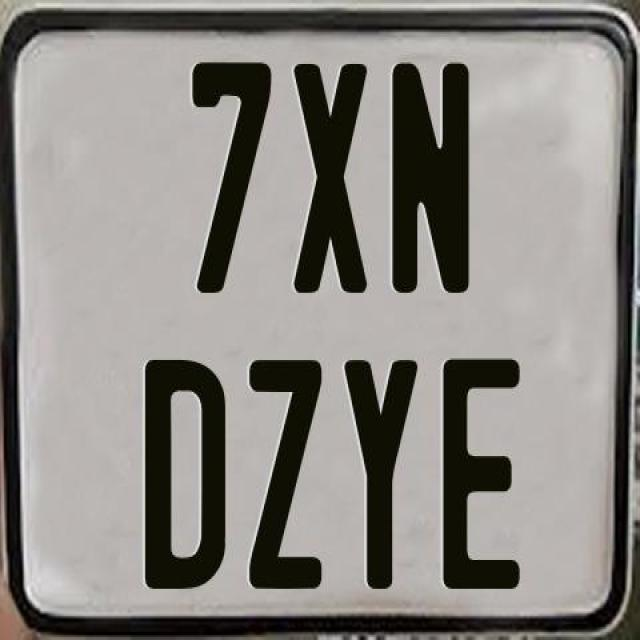7: (188, 58, 272, 288)
D: (144, 357, 227, 589)
E: (440, 358, 524, 596)
N: (388, 59, 473, 290)
X: (289, 64, 364, 293)
Y: (341, 356, 418, 588)
Z: (246, 356, 318, 588)
